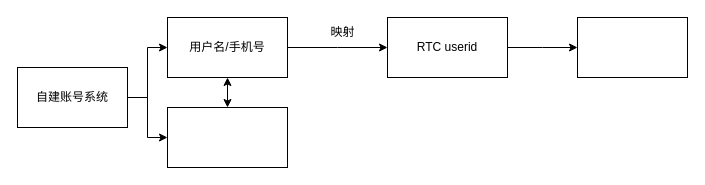
The diagram is 705 pixels wide and 185 high, and some of its shapes have lost their labels. Here are the shapes that lost their labels. From the top down, the centre of each, then its label:
At point 632,47: "进入RTC 房间".
At point 227,137: "密码".
